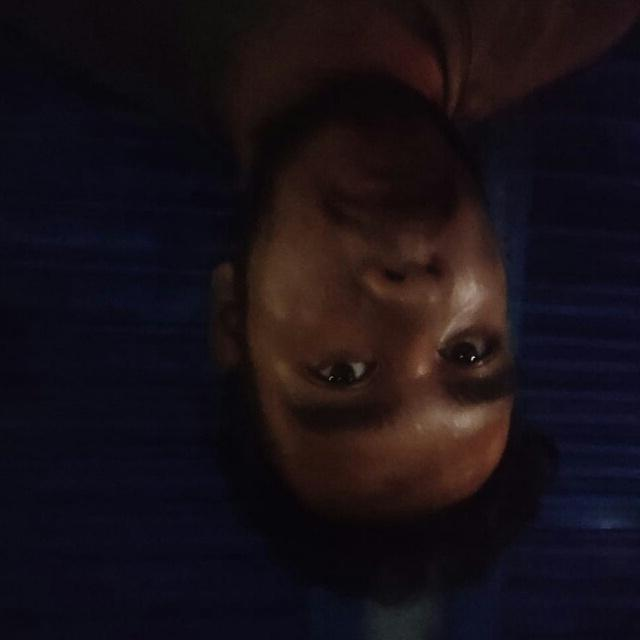Sad: (202, 65, 529, 535)
